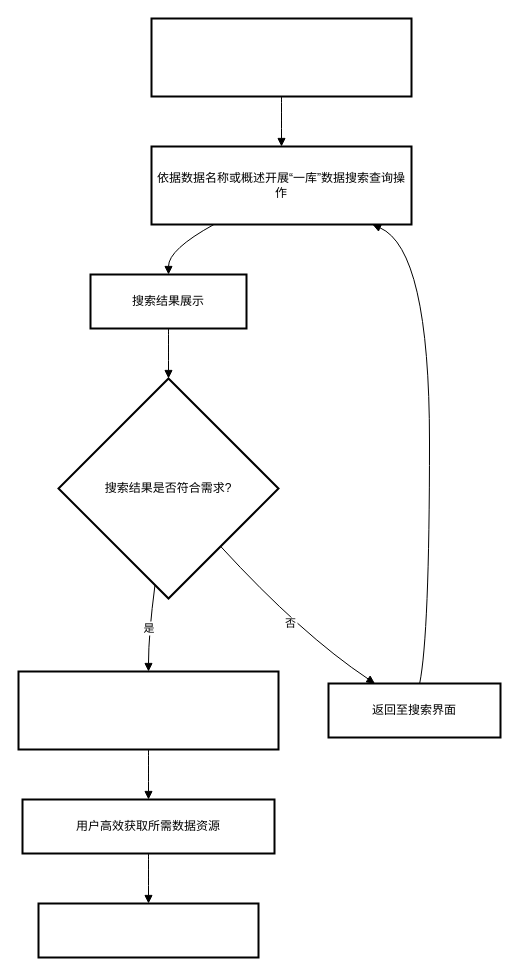
This 518x975 diagram has some shape labels left out. The shapes that lost their labels are listed below. From the top down, each one's centre as x and y in pixels, then its label:
At [281,57]: "系统支持于共享中心的总览入口界面".
At [148,710]: "顺利跳转至“一库”共享资源模块".
At [148,930]: "进行深入的交互与利用".
